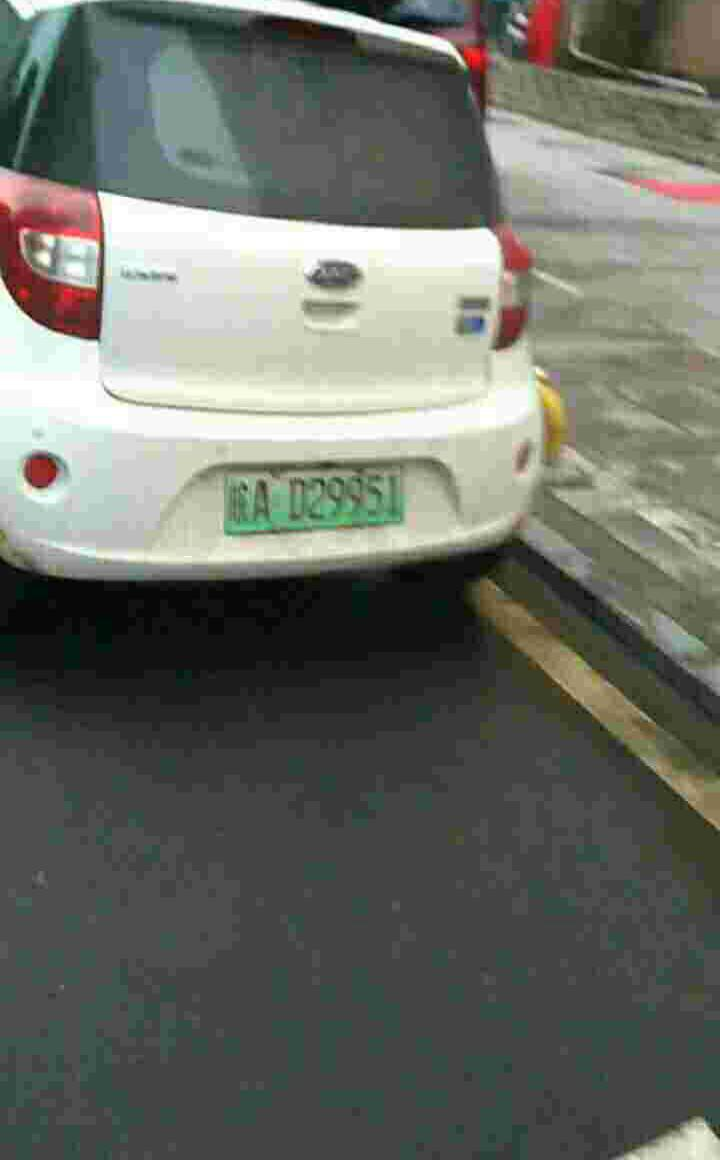car_green: (222, 469, 412, 536)
